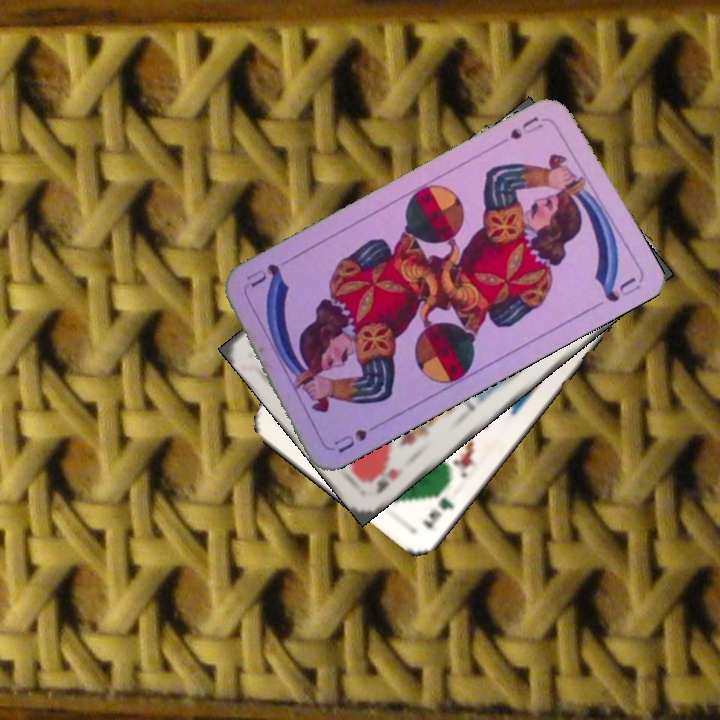GK: (418, 492, 458, 531)
HK: (372, 463, 405, 497)
SU: (329, 419, 386, 456), (506, 112, 550, 143)
